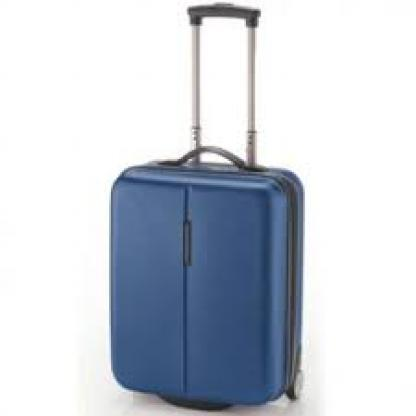maleta: (83, 152, 351, 412)
